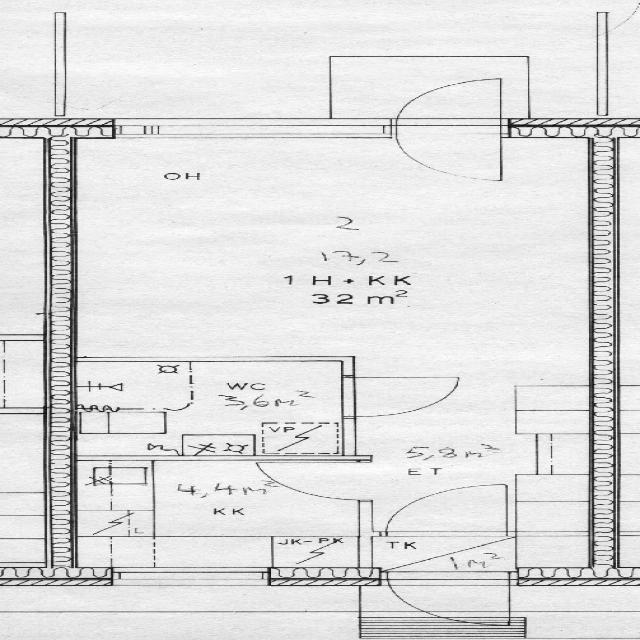door: (47, 140, 616, 366), (66, 358, 350, 458), (386, 73, 512, 175), (372, 567, 508, 623), (392, 129, 508, 183)
window: (104, 119, 392, 143)
zone: (51, 136, 611, 372), (68, 456, 367, 584), (377, 480, 512, 539), (335, 372, 467, 420), (251, 456, 358, 502)
